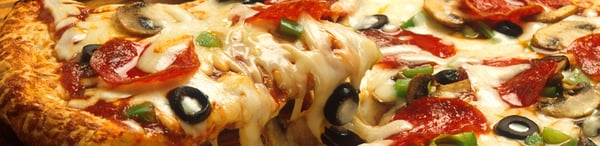sandwich: (0, 0, 597, 144)
